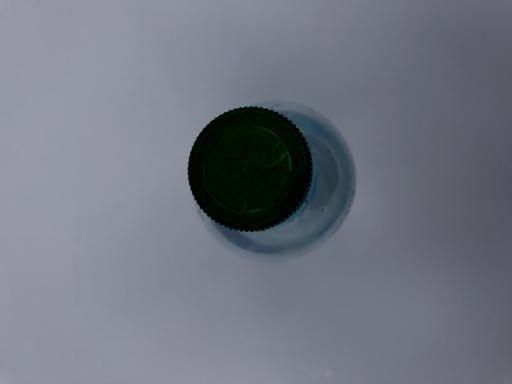bottle: (187, 98, 358, 256)
